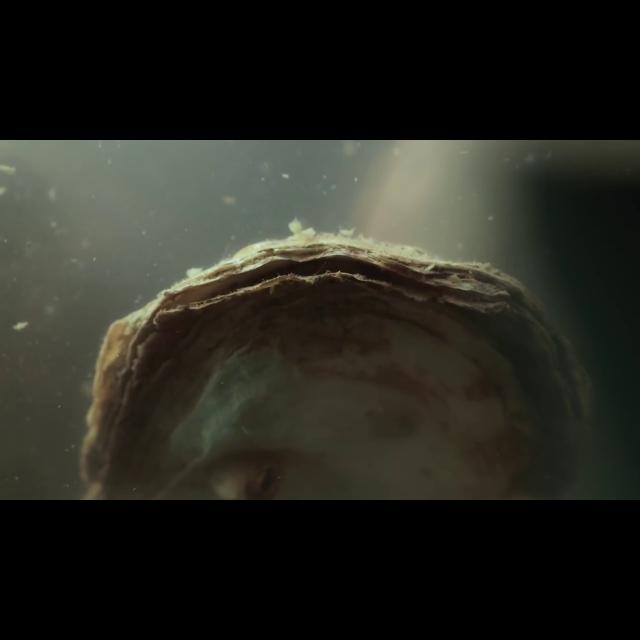Oyster-Closed: (73, 226, 610, 496)
